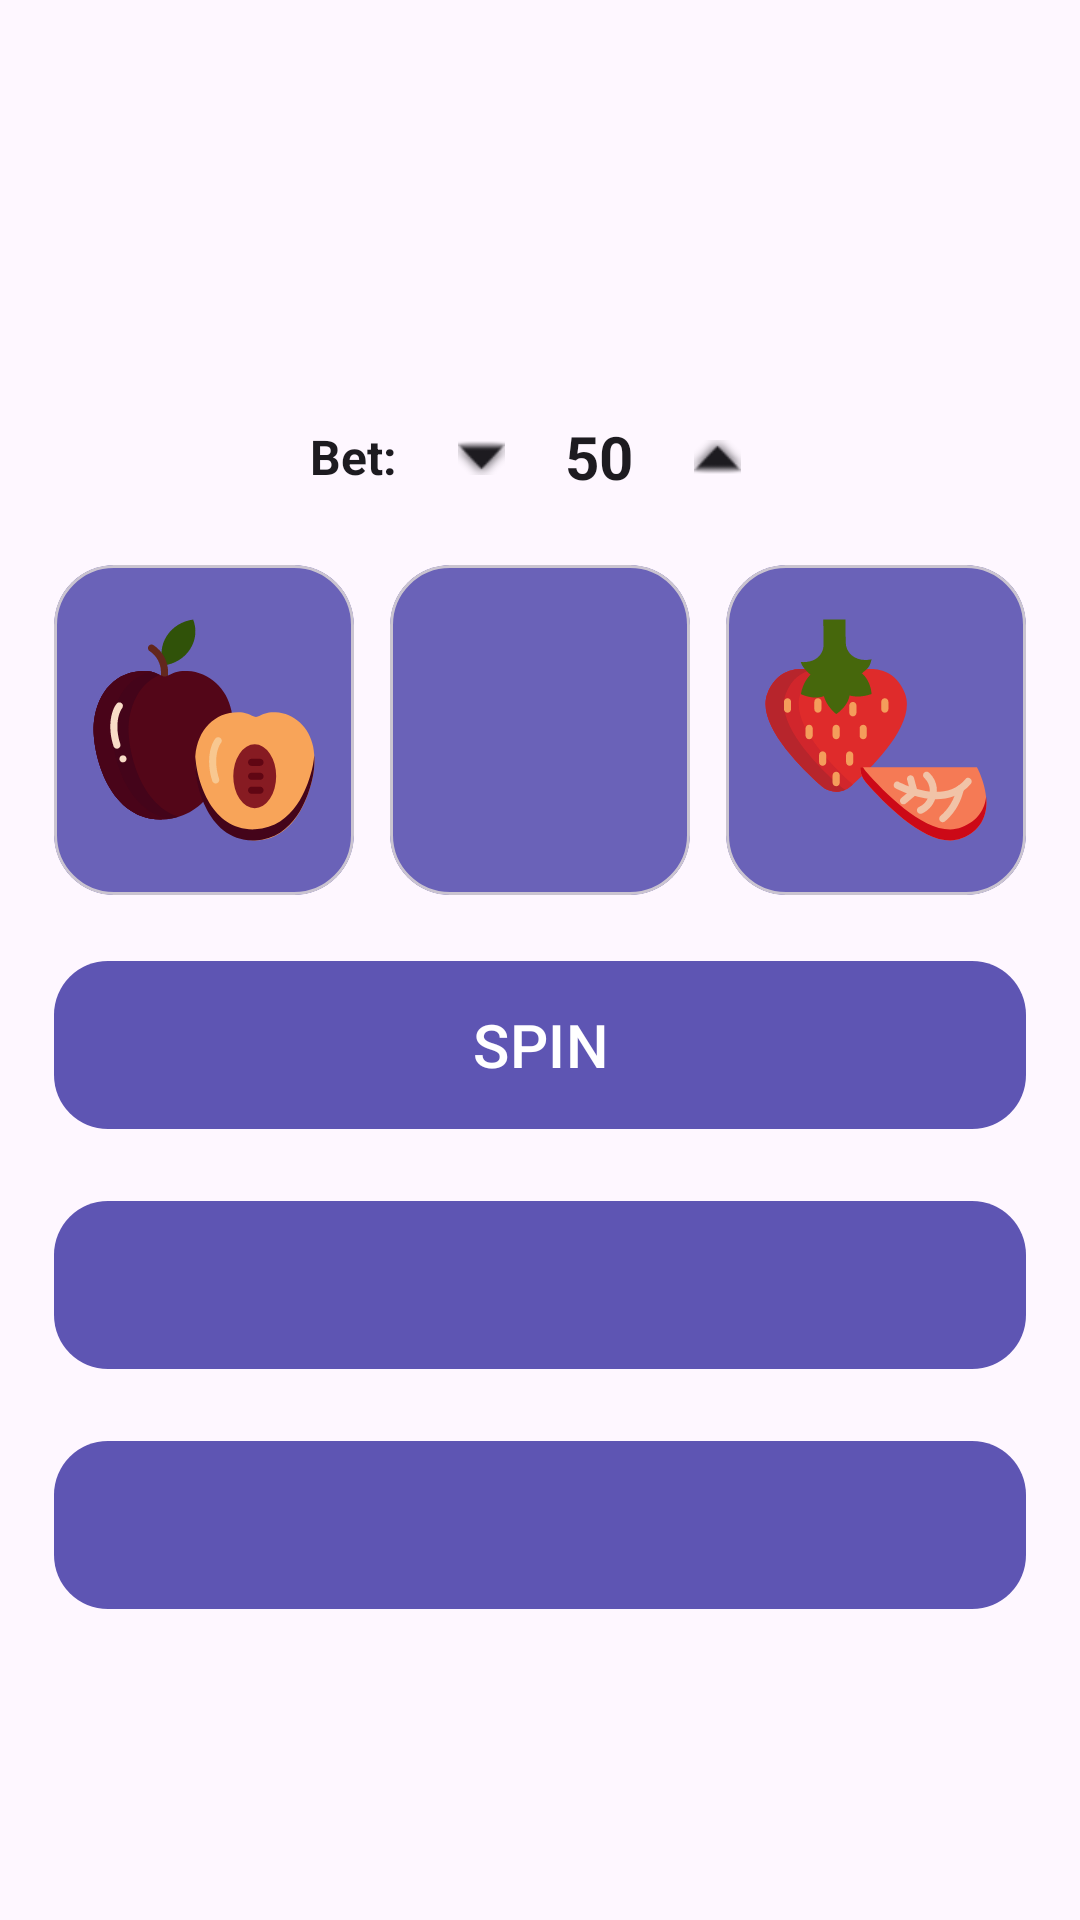

Screen size 1080x1920. Icon name, then its center in pixels as (x,y):
arrow down float: (481,458)
arrow up float: (717,457)
slot fruit: (204,730), (876,730)
